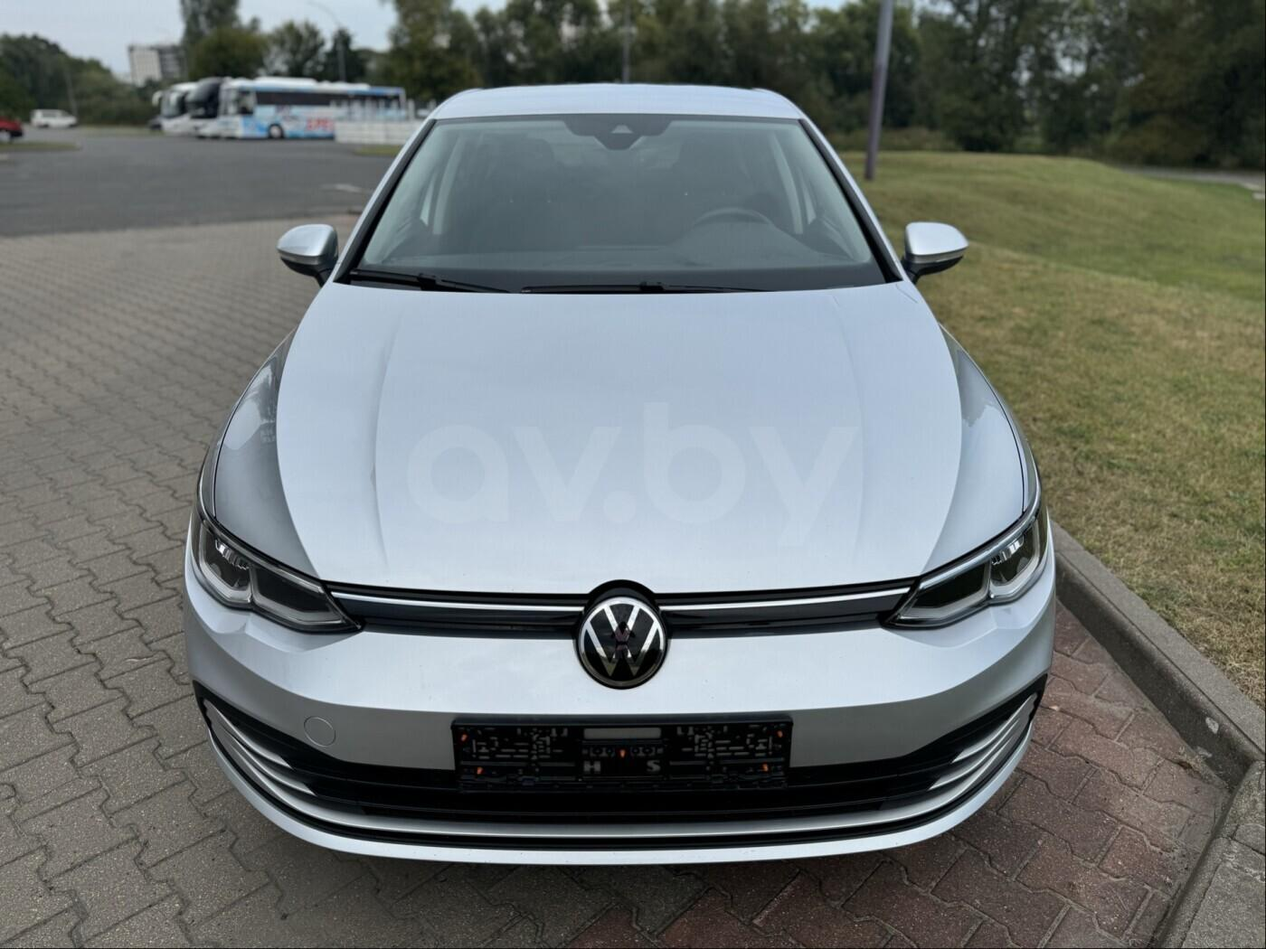Golf_2019: (168, 75, 1059, 866)
